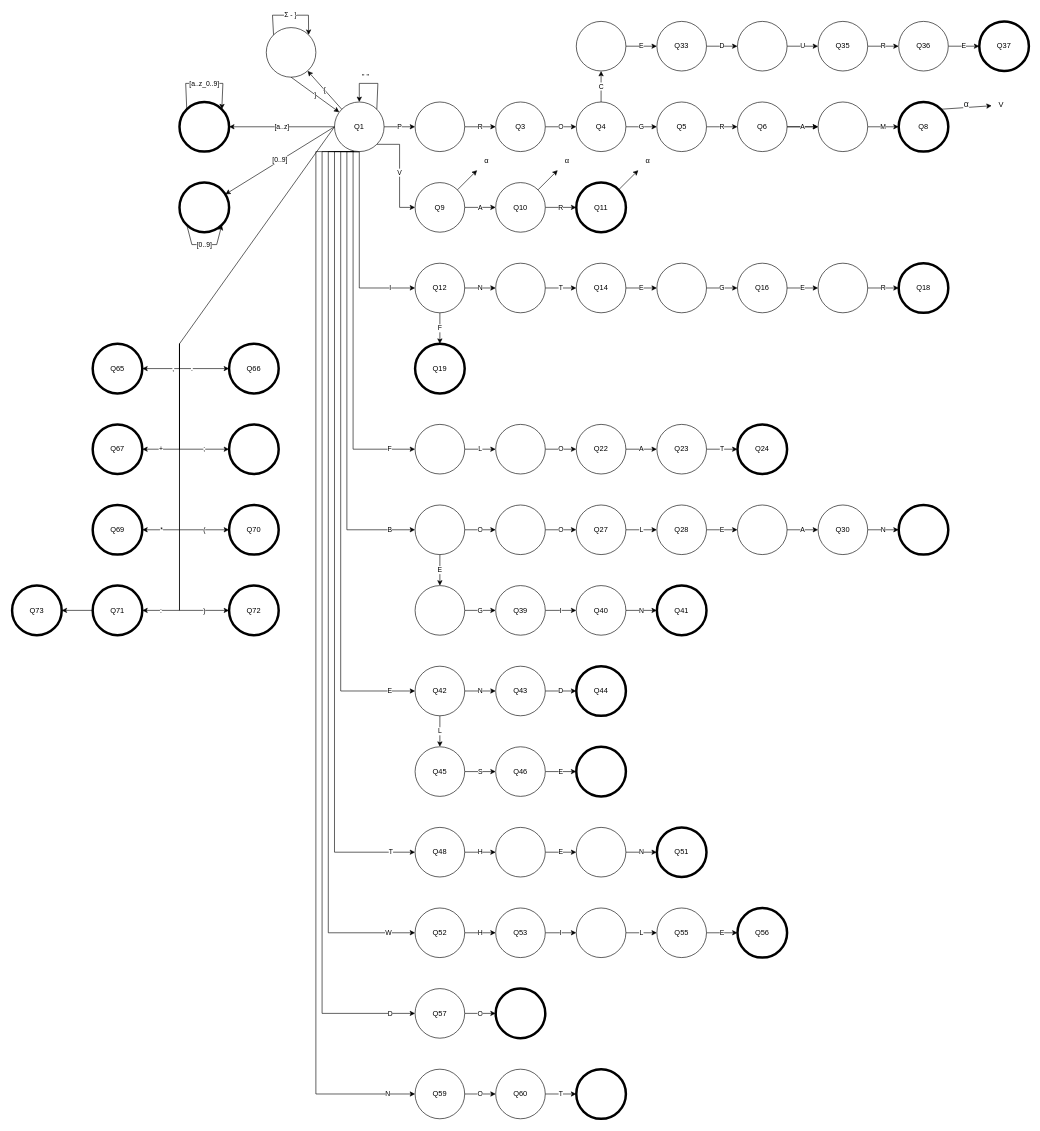
This 1040x1131 diagram has some shape labels left out. The centre of each missing label's shape, as x and y in pixels:
"Q13" belongs at point 520,288.
"Q15" belongs at point 681,288.
"Q17" belongs at point 842,288.
"Q2" belongs at point 439,126.
"Q20" belongs at point 439,449.
"Q21" belongs at point 520,449.
"Q25" belongs at point 439,529.
"Q26" belongs at point 520,529.
"Q29" belongs at point 762,529.
"Q31" belongs at point 923,529.
"Q32" belongs at point 601,46.
"Q34" belongs at point 762,46.
"Q38" belongs at point 439,610.
"Q47" belongs at point 601,771.
"Q49" belongs at point 520,852.
"Q50" belongs at point 601,852.
"Q54" belongs at point 601,932.
"Q58" belongs at point 520,1013.
"Q61" belongs at point 601,1094.
"Q62" belongs at point 291,52.
"Q63" belongs at point 204,126.
"Q64" belongs at point 204,207.
"Q68" belongs at point 254,449.
"Q7" belongs at point 842,126.
